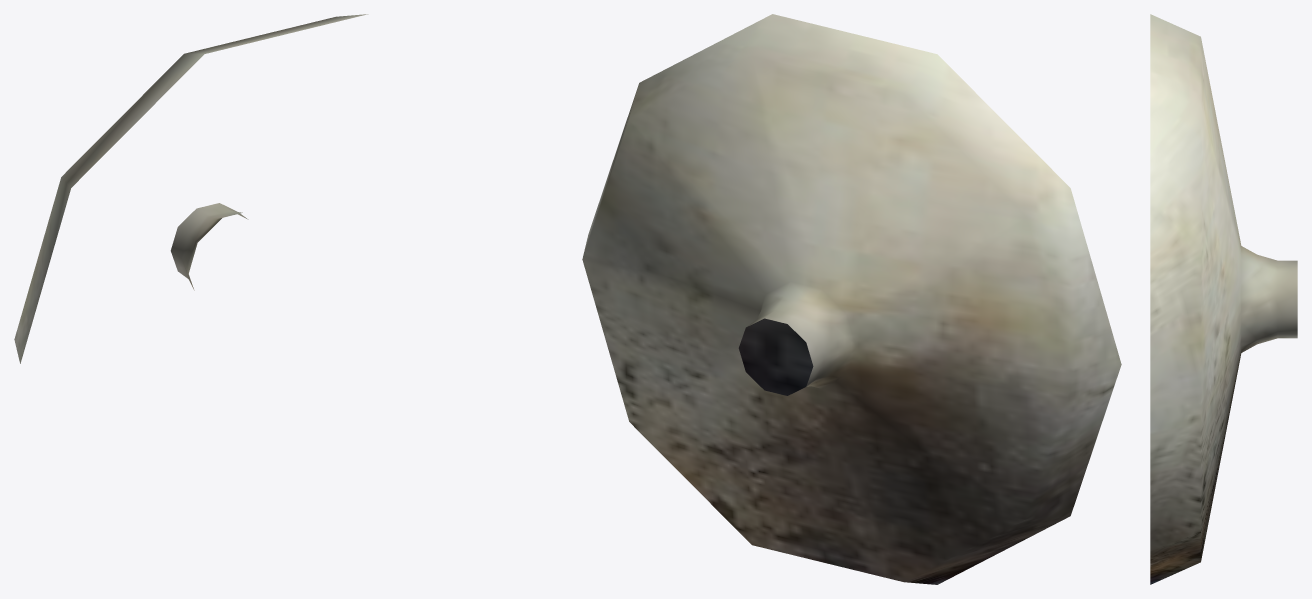
Rendered from prop_lightbulbwirebase.glb.
The picture shows the model from 3 angles, left to right: view 1: azimuth 30°, elevation 25°; view 2: azimuth 150°, elevation 25°; view 3: azimuth 270°, elevation 25°; orthographic projection. The views are drawn at different scales.
Size of the model in its own units: 6.56 by 6.24 by 1.68.
Materials: 1 (1 with a texture image).
